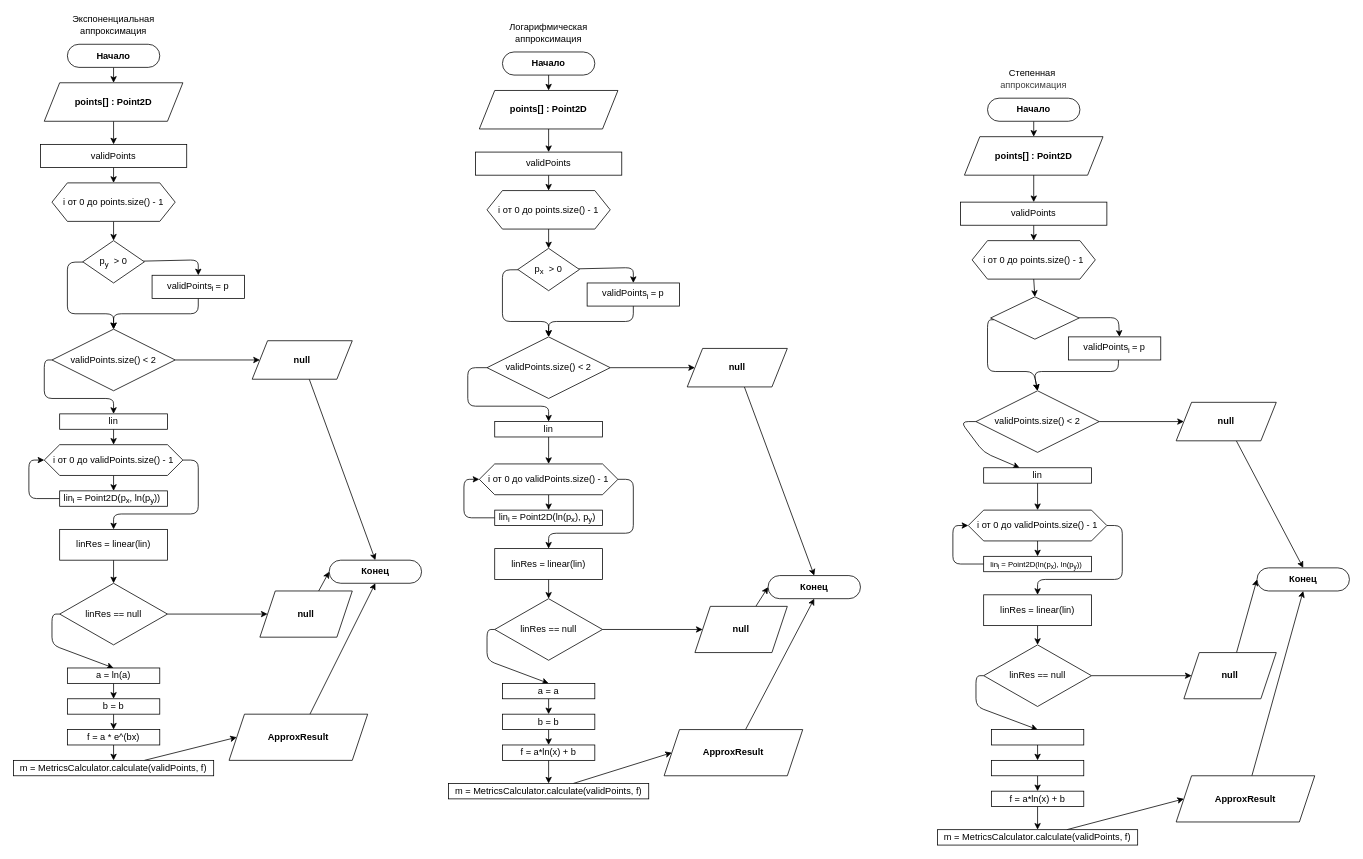
The diagram is 1363 pixels wide and 859 high, and some of its shapes have lost their labels. The centre of each missing label's shape, as x and y in pixels:
"a = b" belongs at (x=1037, y=737).
"b = ln(a)" belongs at (x=1037, y=768).
"p y > 0 и p x > 0" belongs at (x=1034, y=317).
